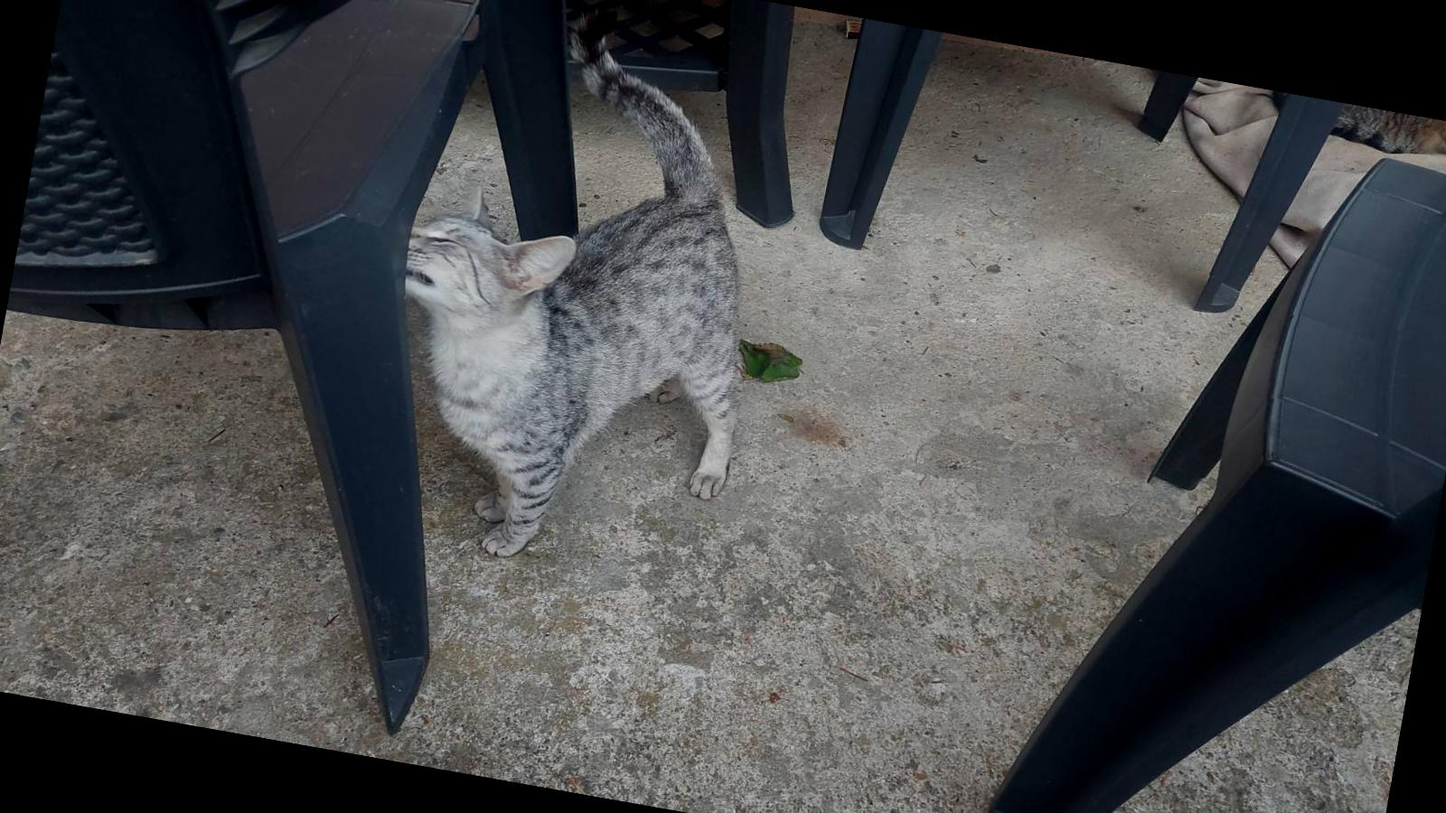macka: (336, 0, 803, 599)
